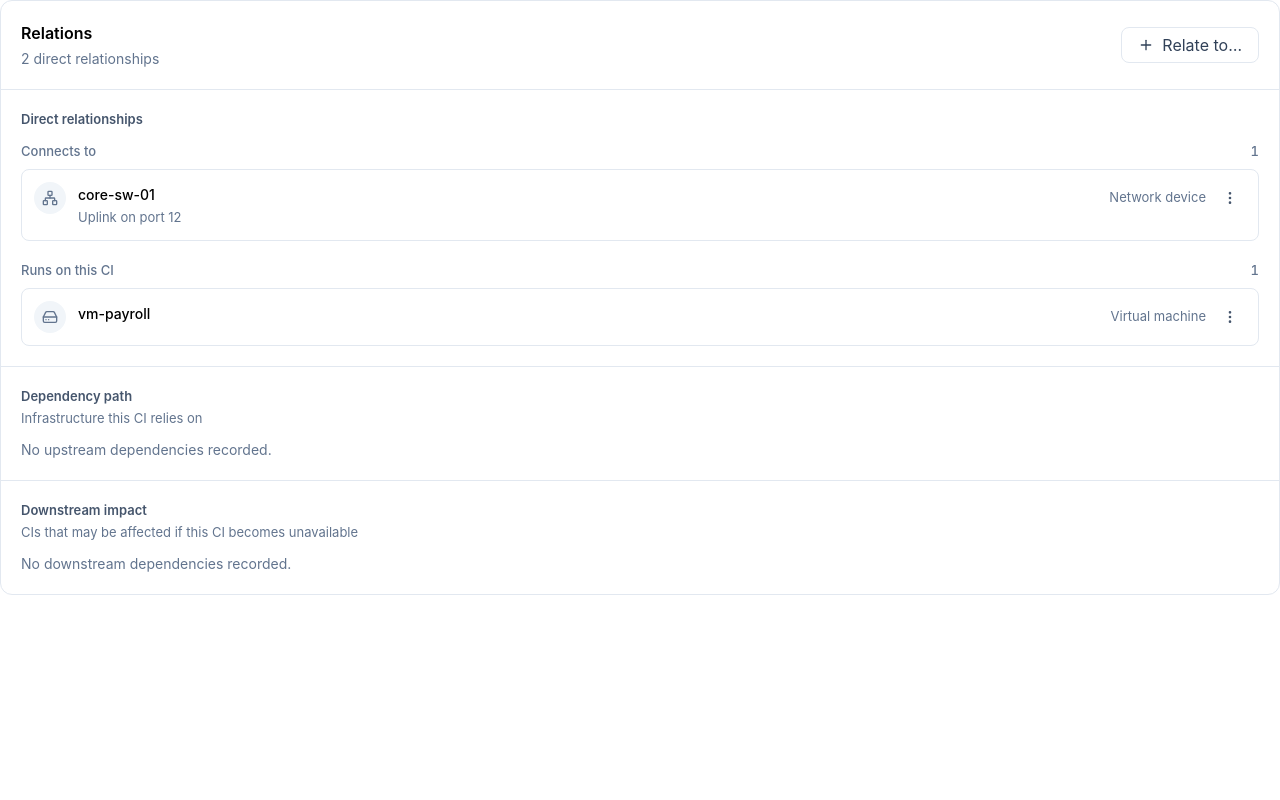
it: CiRelationsGraph write surface › surfaces a failed removal on the card
What coordinates should you click on to do the following:
click the button named "Actions for esx-01 connects to core-sw-01"
I would click on:
 (1230, 198)
Its box is left=1214, top=182, right=1246, bottom=214.
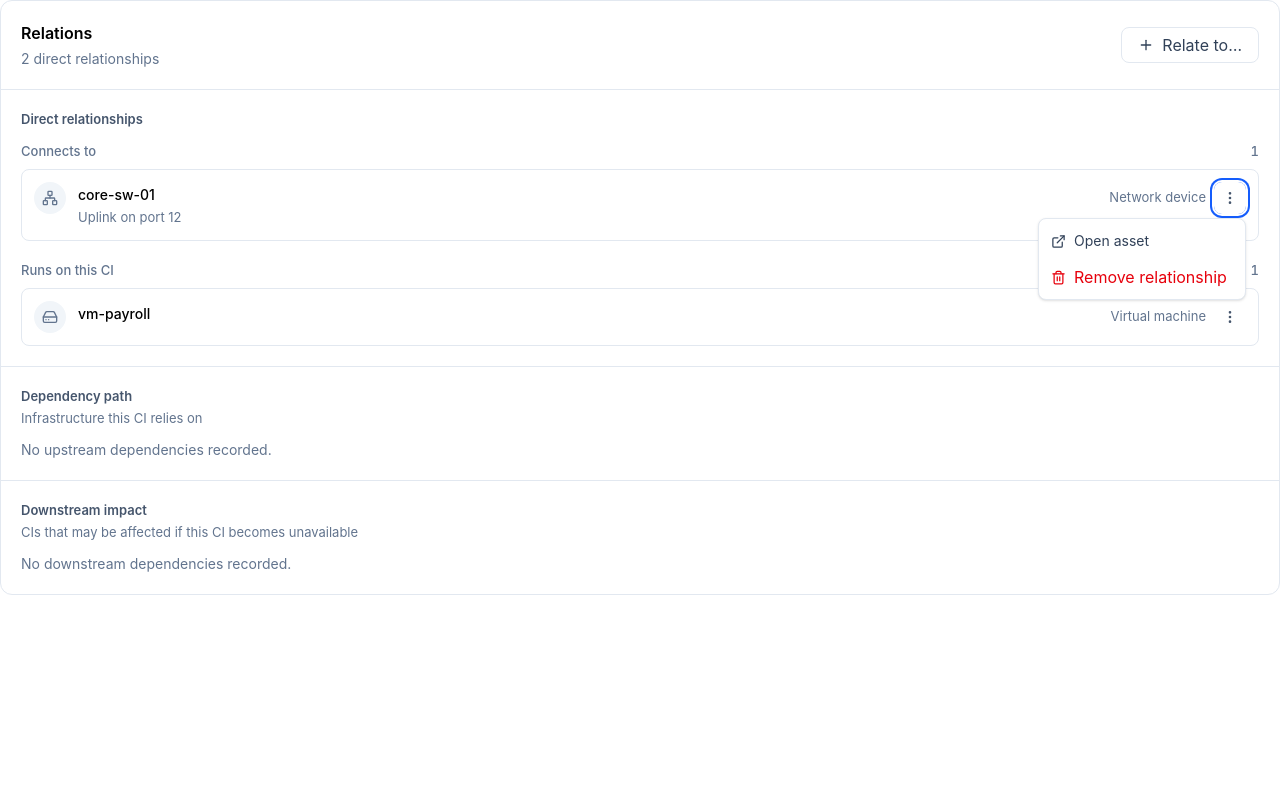
What coordinates should you click on to do the following:
click the button with aria-label "Remove relationship: esx-01 connects to core-sw-01"
I would click on:
 (1142, 277)
Its box is left=1043, top=259, right=1241, bottom=295.
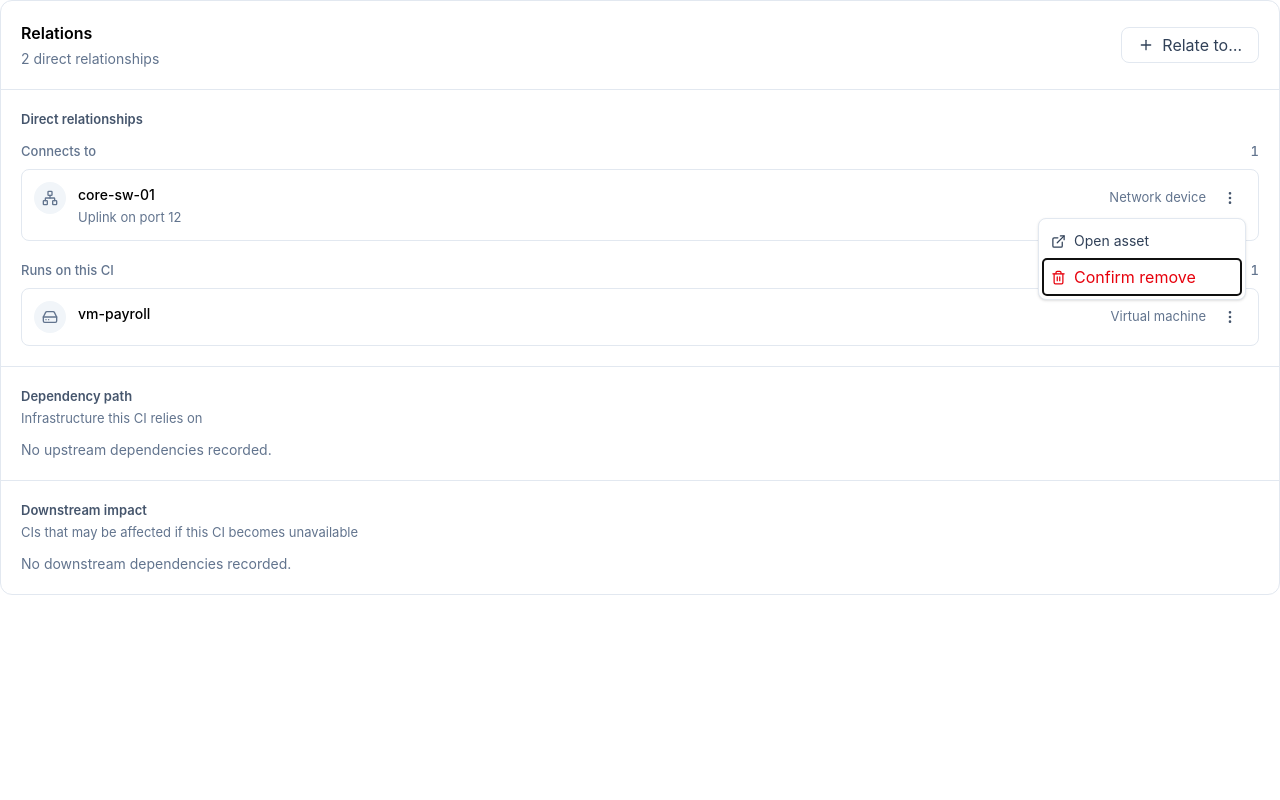
What coordinates should you click on to do the following:
click the button "Confirm remove"
I would click on:
 (1142, 277)
Its box is left=1043, top=259, right=1241, bottom=295.
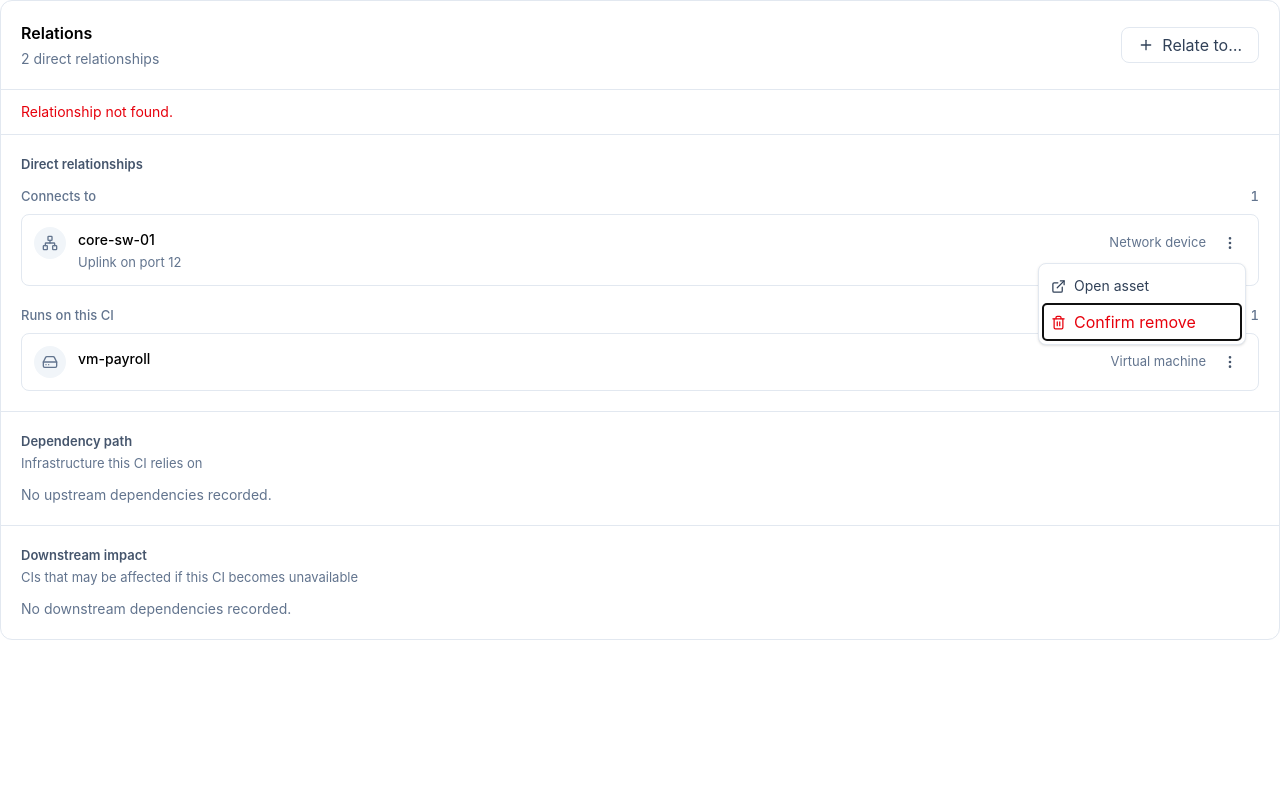
Now the text "Relationship not found." is shown, box left=1, top=90, right=1279, bottom=135
